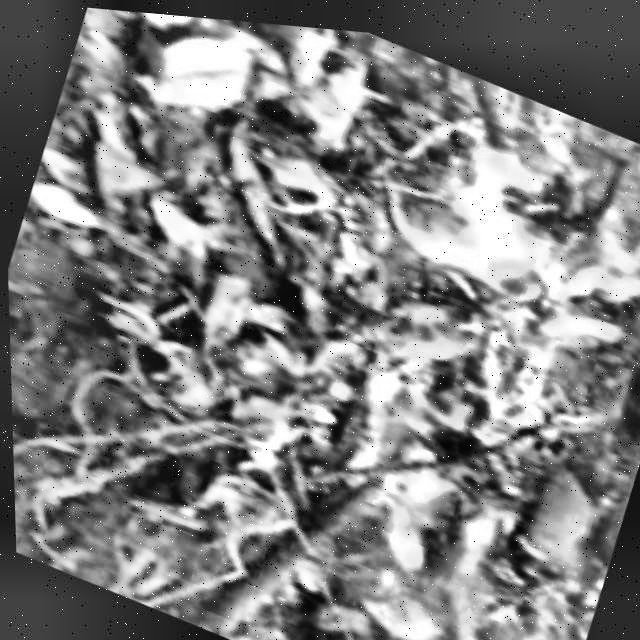Fire: (347, 75, 640, 408), (301, 243, 557, 598)
